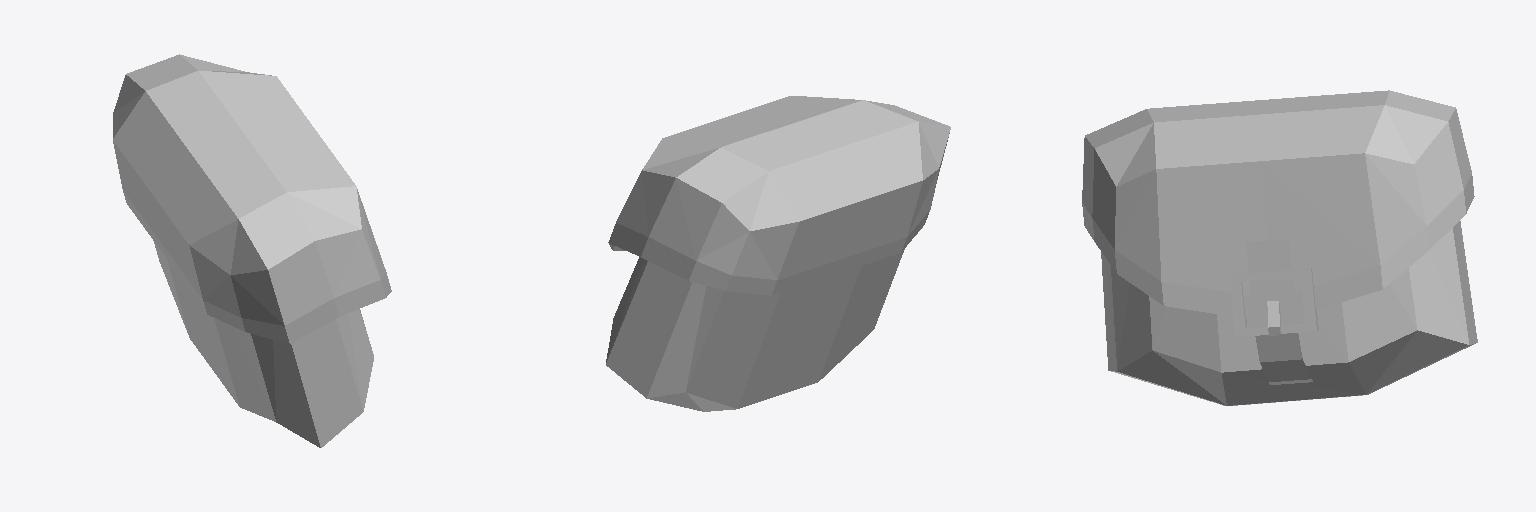
The model's file is RangerPouch.obj.
The picture shows the model from 3 angles: view 1: azimuth 30°, elevation 25°; view 2: azimuth 150°, elevation 25°; view 3: azimuth 270°, elevation 25°; orthographic projection.
Parts seen in each view (by area): view 1: RangerPouch; view 2: RangerPouch; view 3: RangerPouch.
Part boxes in pixels (bbox=[...]): RangerPouch: bbox=[113, 54, 391, 447]; RangerPouch: bbox=[606, 96, 950, 411]; RangerPouch: bbox=[1082, 90, 1477, 405].
Size of the model in its own units: 0.2058 by 0.2631 by 0.3182.